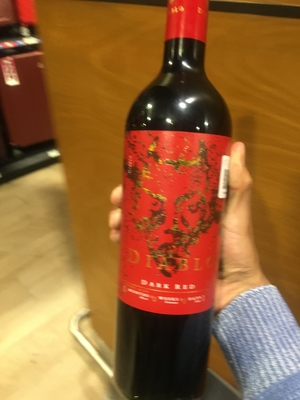diablo dark red: (109, 20, 253, 388)
